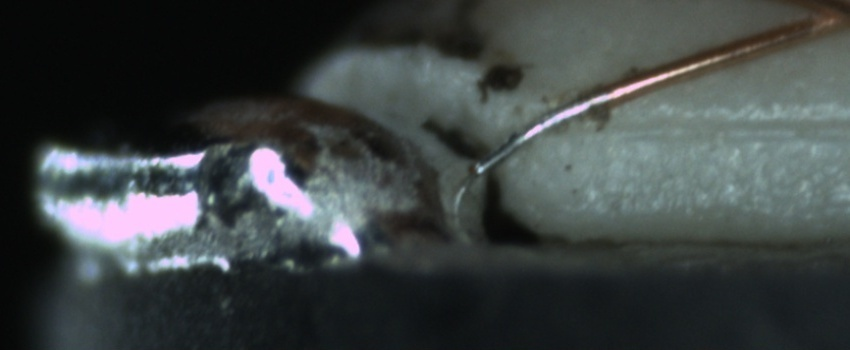DL: (603, 90, 845, 166)
TS: (474, 89, 607, 183)
TTCW: (474, 78, 639, 183)
